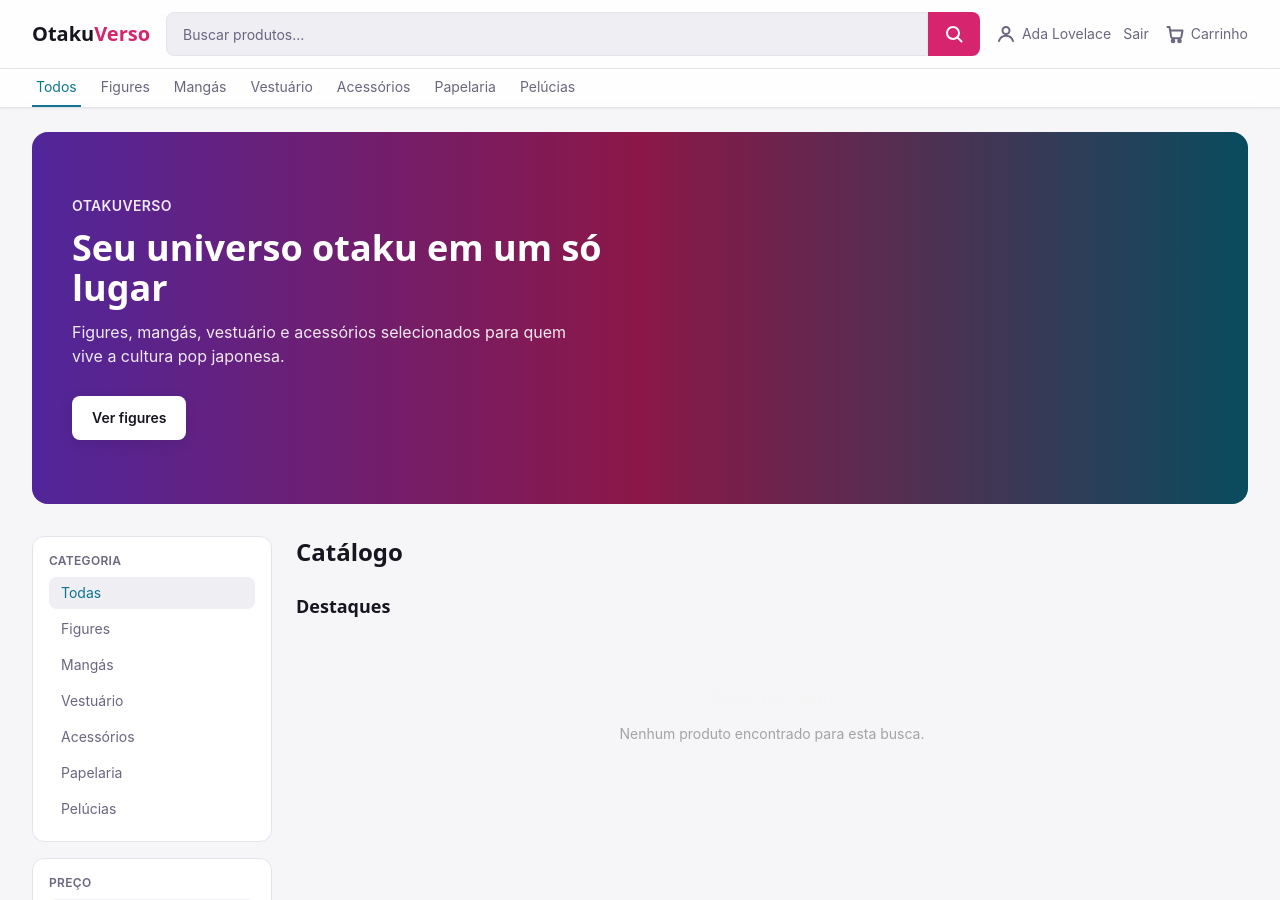
App routing › shows the user name and Sair in the header when logged in, and Sair logs out
This screenshot has width=1280, height=900.
Expected: the heading "Catálogo" is shown, [296,535,403,568]
Expected: the text "Ada Lovelace" is shown, [996,24,1111,44]
Click the button "Sair": [1136, 34] box [1123,24,1149,44]
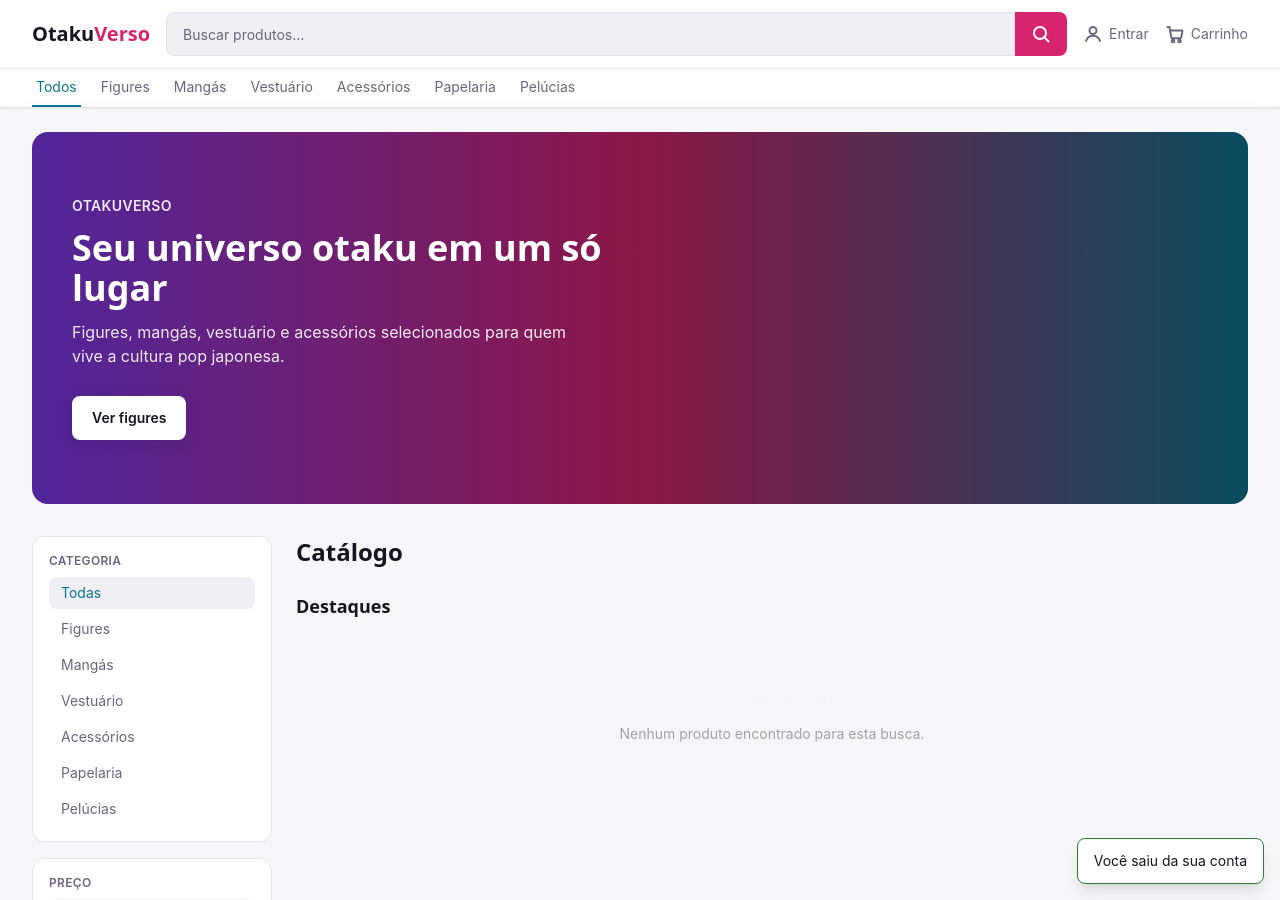
Result: the link "Entrar" is shown at [1083,24,1149,44]
Result: the text "Ada Lovelace" is gone
